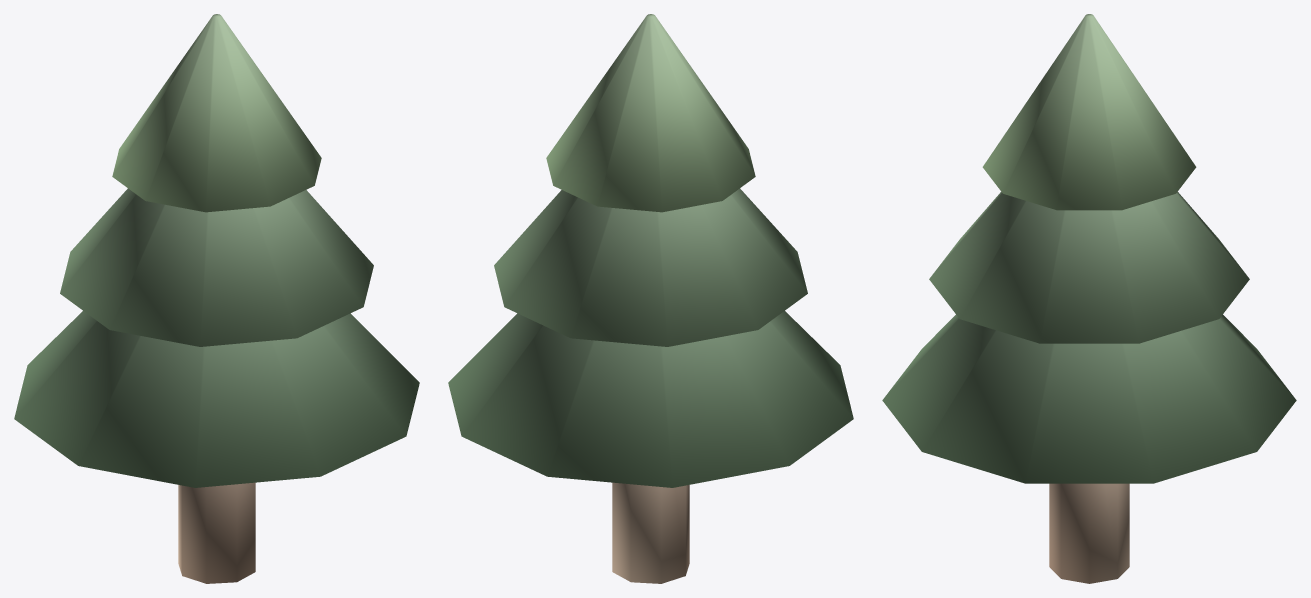
The model's file is tree_pine.glb.
3 renders of one model, left to right at view 1: azimuth 30°, elevation 25°; view 2: azimuth 150°, elevation 25°; view 3: azimuth 270°, elevation 25°, orthographic.
Parts seen in each view (by area): view 1: Canopy, Trunk; view 2: Canopy, Trunk; view 3: Canopy, Trunk.
Part boxes in pixels (<box>): Canopy: <box>14,14,419,487</box>; Trunk: <box>178,482,255,583</box>; Canopy: <box>448,14,853,487</box>; Trunk: <box>612,482,689,583</box>; Canopy: <box>882,14,1296,483</box>; Trunk: <box>1049,483,1129,583</box>.
Size of the model in its own units: 1.18 by 1.82 by 1.24.
